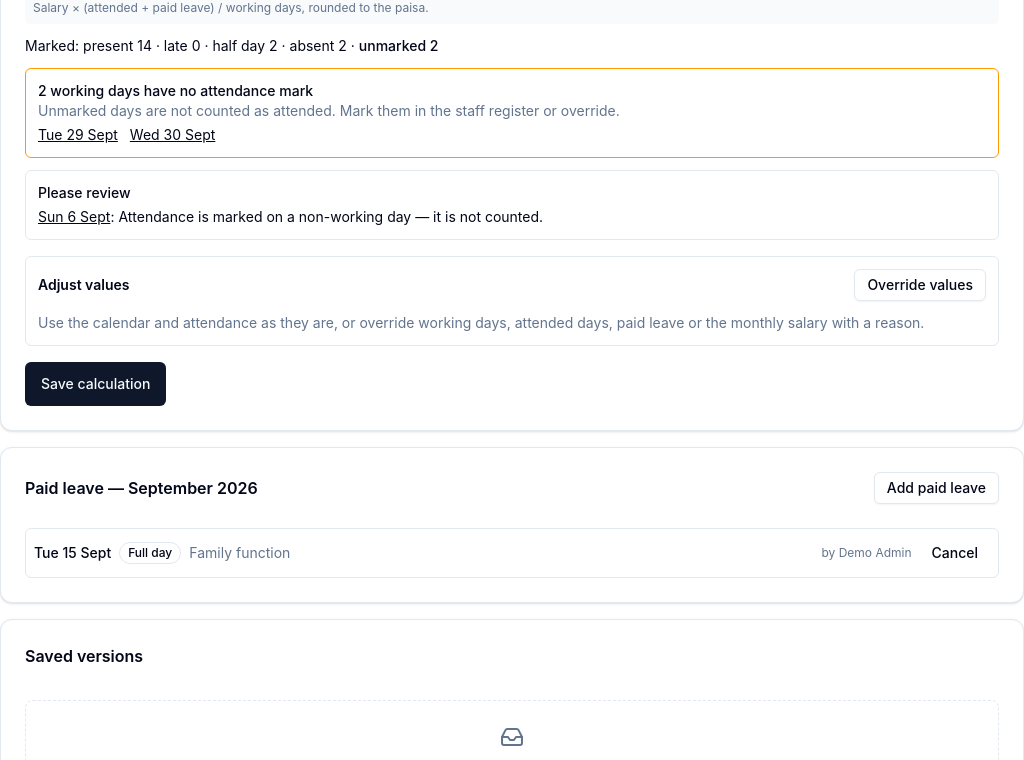
Test: salary calculator (manager) › a lost reply says "Not confirmed" (saving again is safe)
The image size is (1024, 760).
(page scrolled)
Click the button "Save calculation" at (96, 384), box x1=25 y1=362 x2=166 y2=406
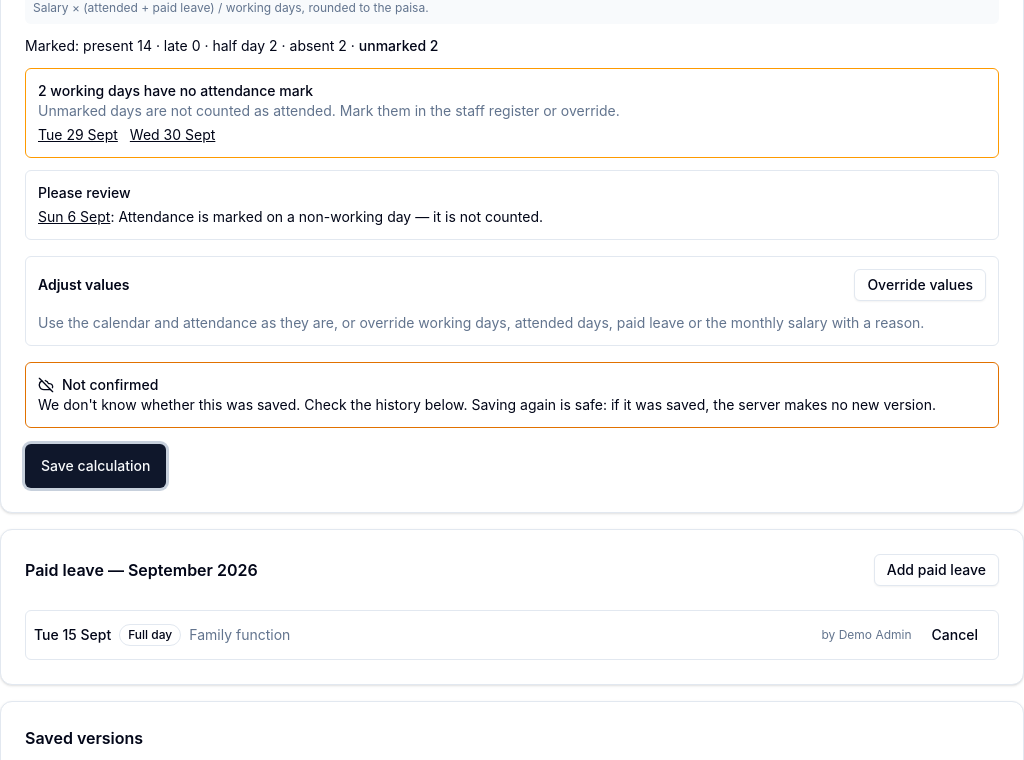
Expected: the message with test id "unconfirmed" shows "Saving again is safe", x1=38 y1=396 x2=936 y2=413
